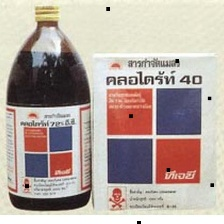book: (87, 48, 224, 214)
insecticide: (2, 2, 94, 215)
